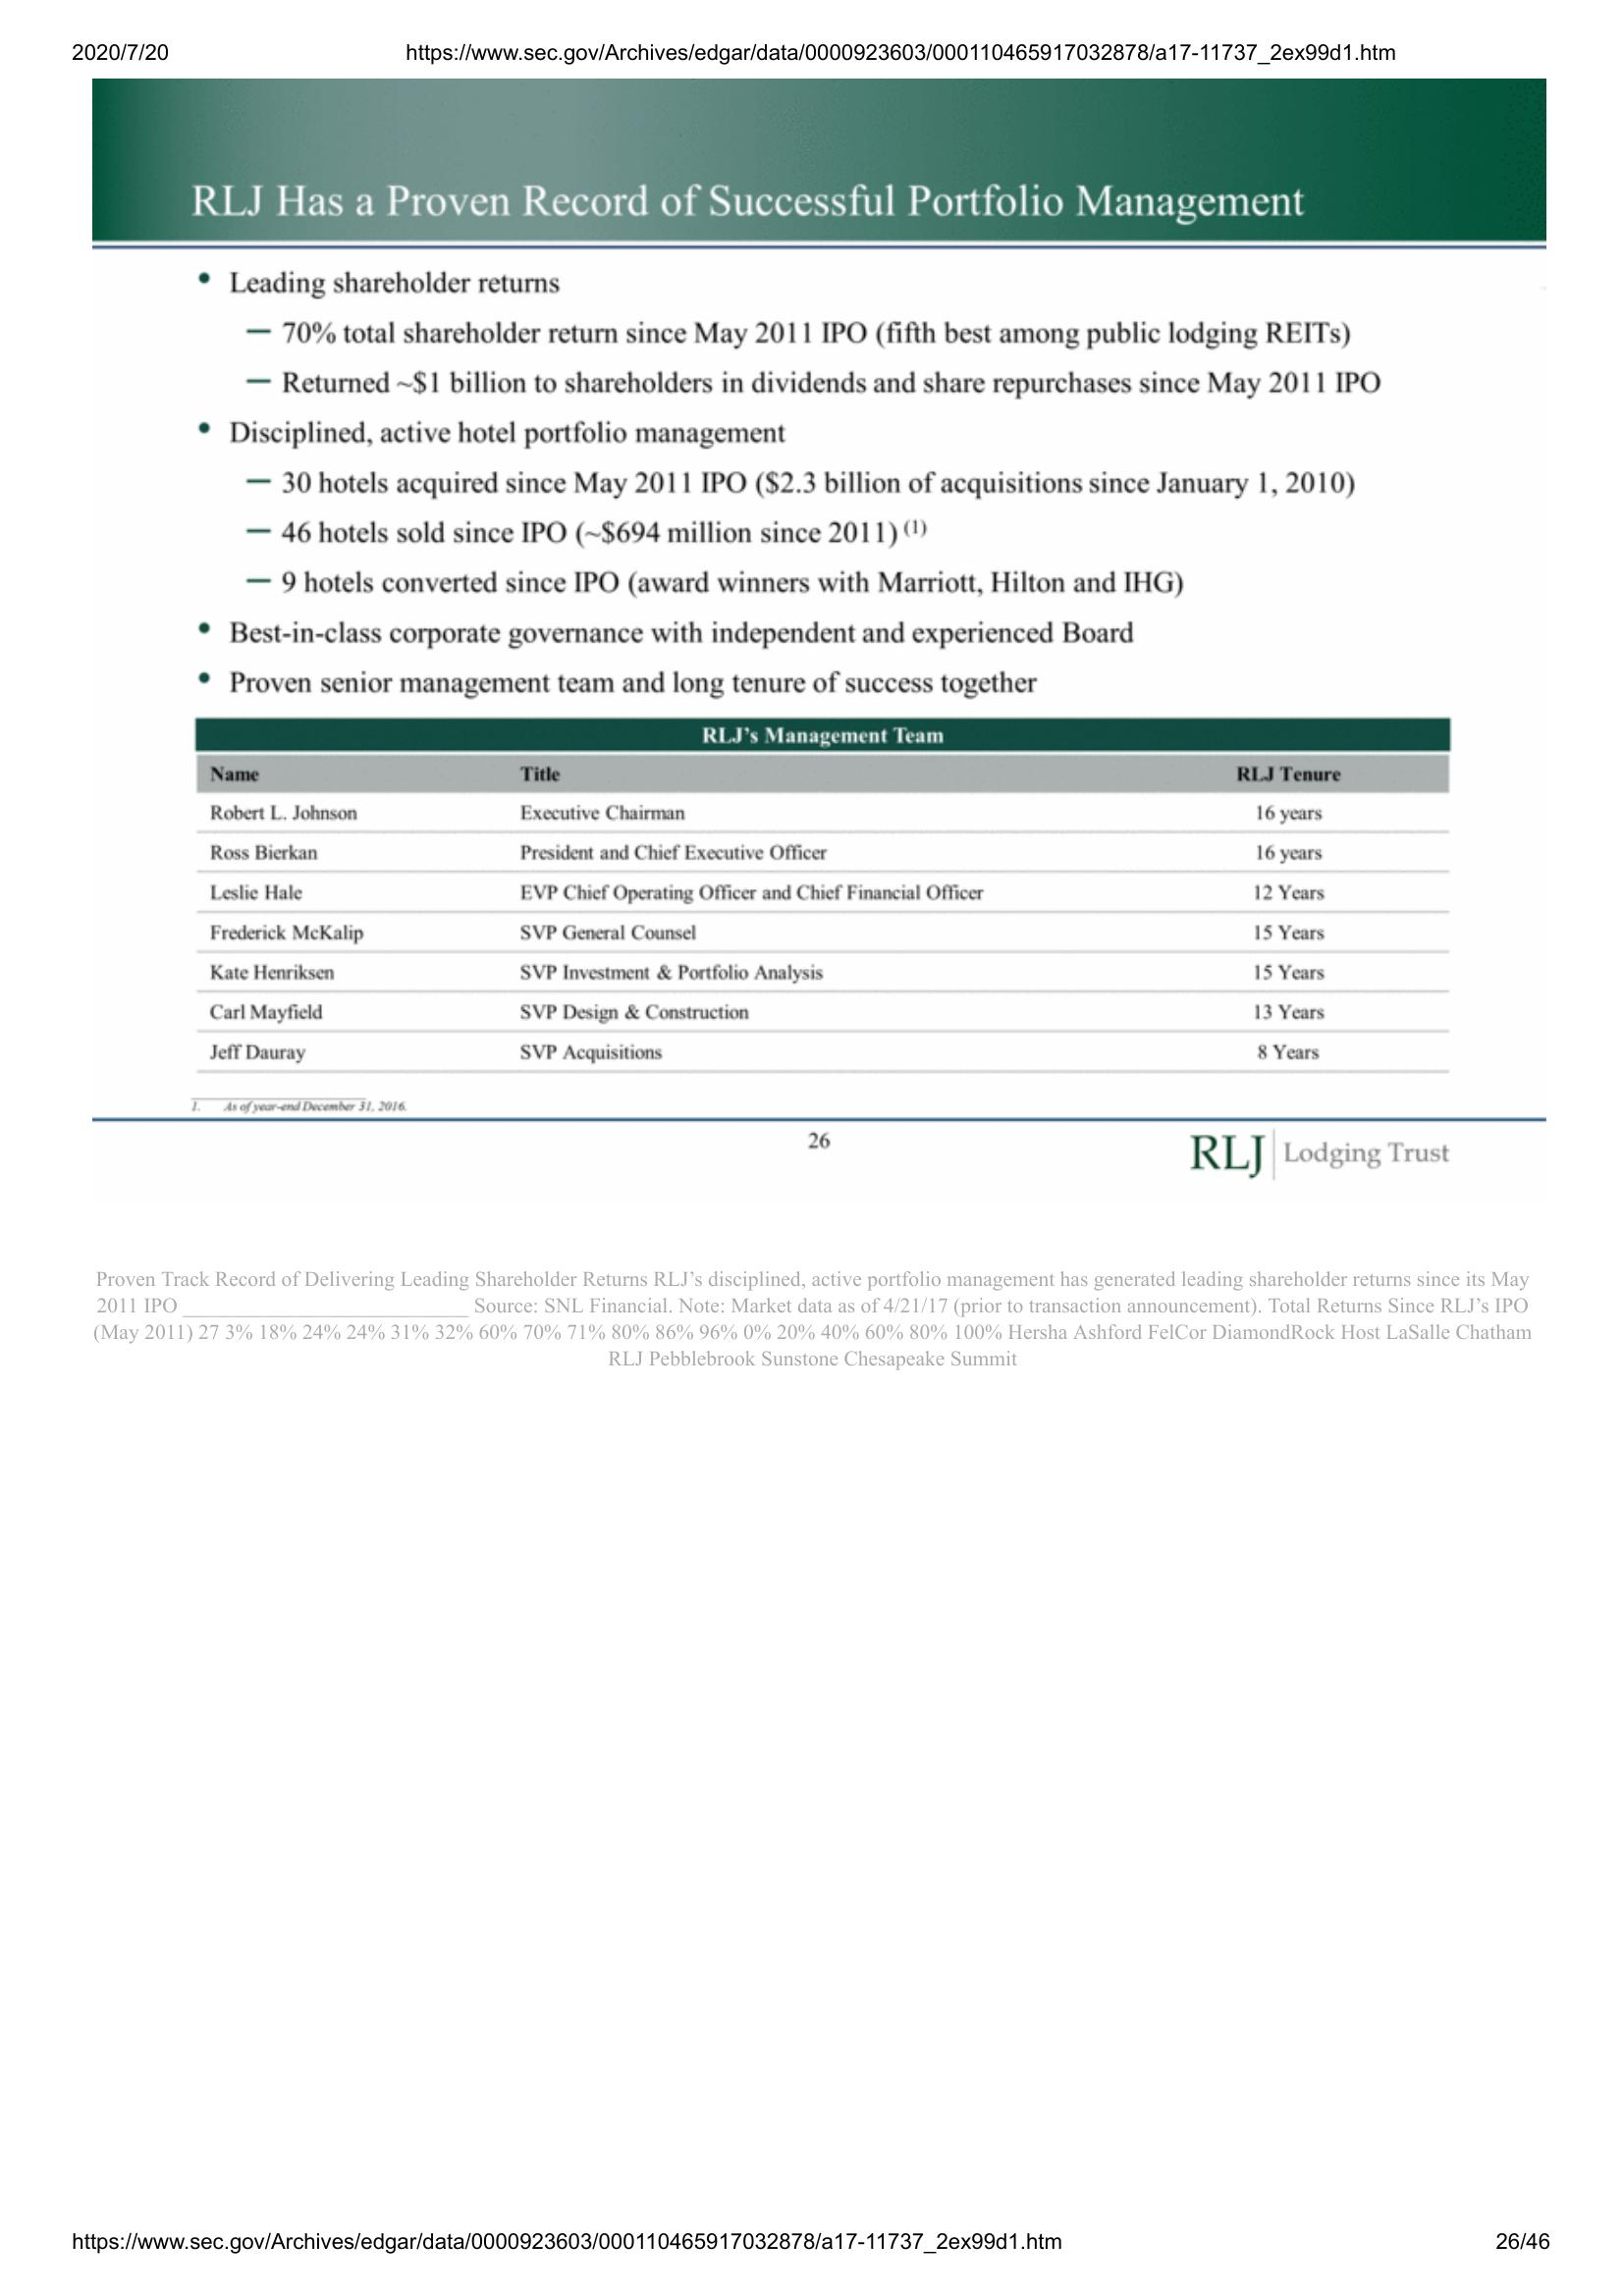table: (193, 714, 1454, 1080)
